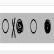correct: (44, 16, 51, 36)
no answer: (30, 16, 38, 36), (2, 17, 10, 35)
